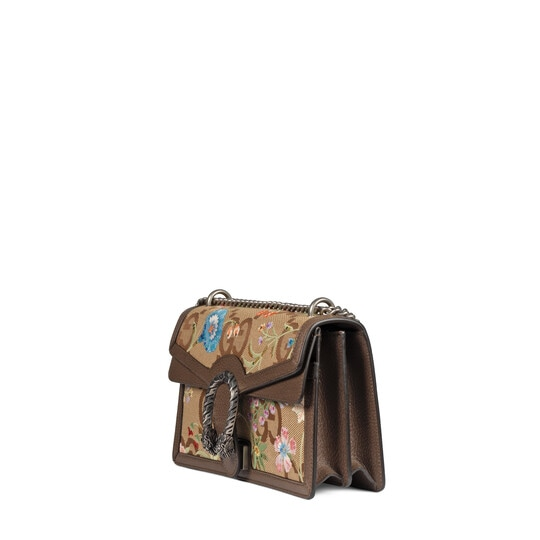Gucci: (139, 289, 398, 502), (197, 356, 254, 459), (213, 311, 255, 361)
